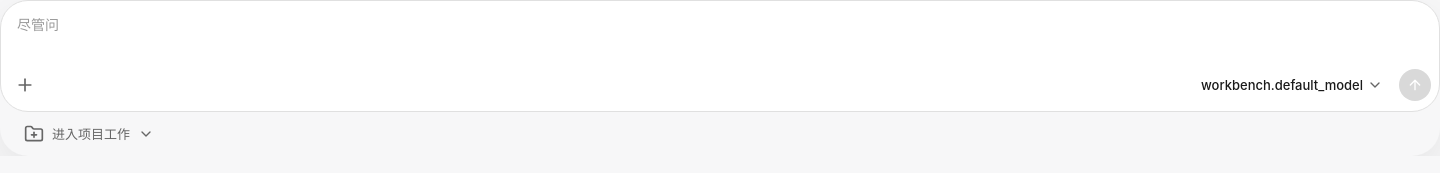
ChatInput › hides projects with offline devices from project selection
This screenshot has width=1440, height=173.
Click the button with test id "project-work-button" at x=89, y=134, box top-left (16, 116), bottom-right (162, 152)
(page scrolled)
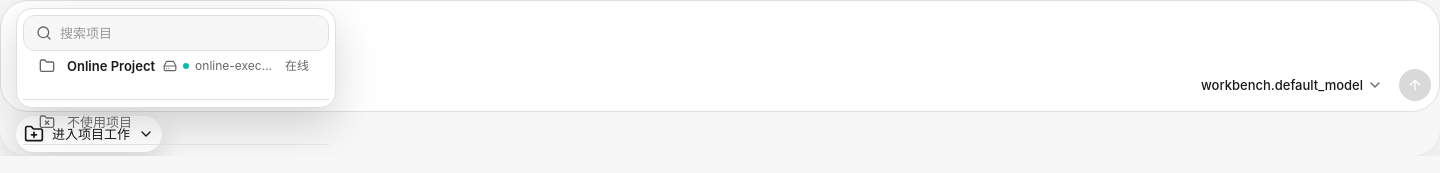
Check: the button with test id "project-option-7" is shown, box top-left (23, 57), bottom-right (325, 93)
